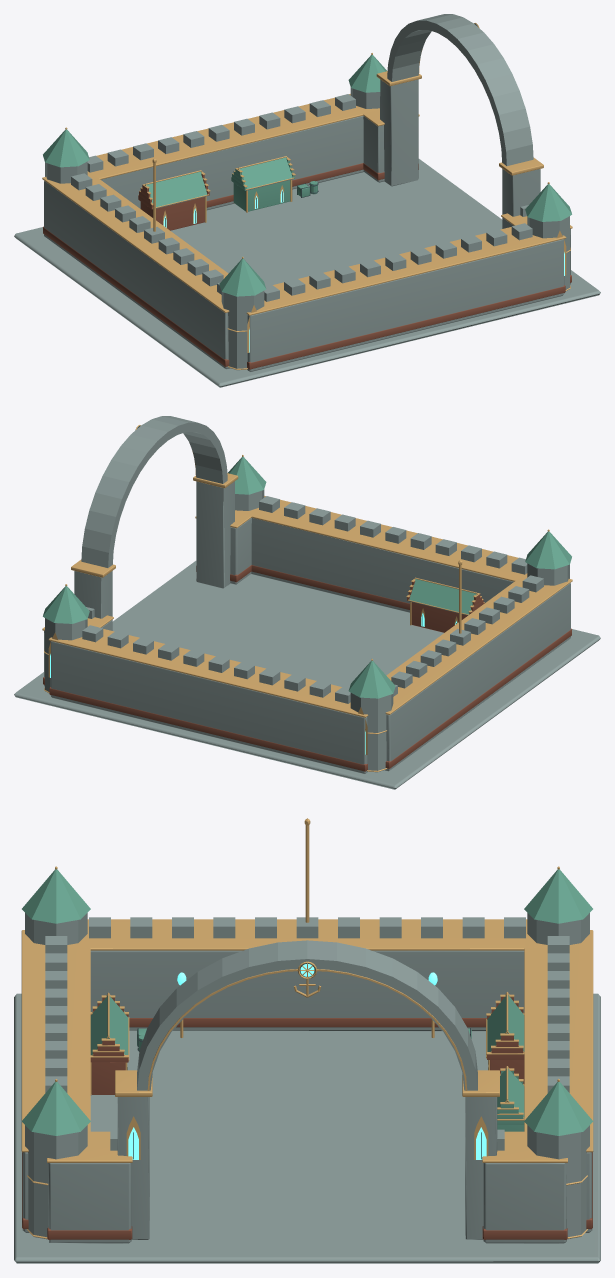
File: site-bastion.glb
3 views of the same model, one above another, from view 1: azimuth 30°, elevation 25°; view 2: azimuth 150°, elevation 25°; view 3: azimuth 270°, elevation 25° (orthographic). The views are drawn at different scales.
Visible parts, largest first — view 1: site-bastion / Masonry | weathered Baltic limestone, site-bastion / Fittings | worn maritime brass, site-bastion / Copper | steep verdigris roof, site-bastion / Masonry | deep Hanseatic brick; view 2: site-bastion / Masonry | weathered Baltic limestone, site-bastion / Fittings | worn maritime brass, site-bastion / Masonry | deep Hanseatic brick, site-bastion / Copper | steep verdigris roof; view 3: site-bastion / Masonry | weathered Baltic limestone, site-bastion / Fittings | worn maritime brass, site-bastion / Copper | steep verdigris roof, site-bastion / Masonry | deep Hanseatic brick, site-bastion / Lamp | turbine mint.
Boxes of the visible parts, x1,y1,x2,y2 form: site-bastion / Masonry | weathered Baltic limestone: (14,14,600,387); site-bastion / Fittings | worn maritime brass: (42,23,572,369); site-bastion / Copper | steep verdigris roof: (43,55,571,296); site-bastion / Masonry | deep Hanseatic brick: (43,163,571,369); site-bastion / Masonry | weathered Baltic limestone: (14,416,600,789); site-bastion / Fittings | worn maritime brass: (42,425,572,771); site-bastion / Masonry | deep Hanseatic brick: (43,565,571,771); site-bastion / Copper | steep verdigris roof: (43,457,571,698); site-bastion / Masonry | weathered Baltic limestone: (14,913,600,1263); site-bastion / Fittings | worn maritime brass: (21,818,593,1238); site-bastion / Copper | steep verdigris roof: (21,869,593,1135); site-bastion / Masonry | deep Hanseatic brick: (22,997,592,1239); site-bastion / Lamp | turbine mint: (128,963,486,1159).
Bounding box in the file's own units: 30.04 × 15.21 × 28.04.
